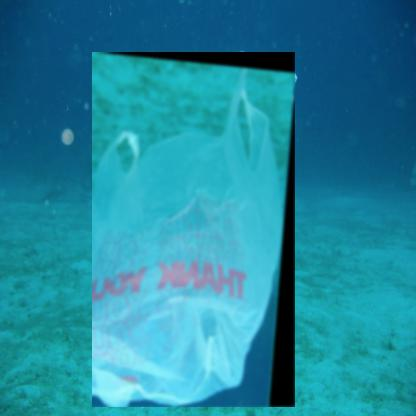plastic-bag: (92, 52, 296, 408)
